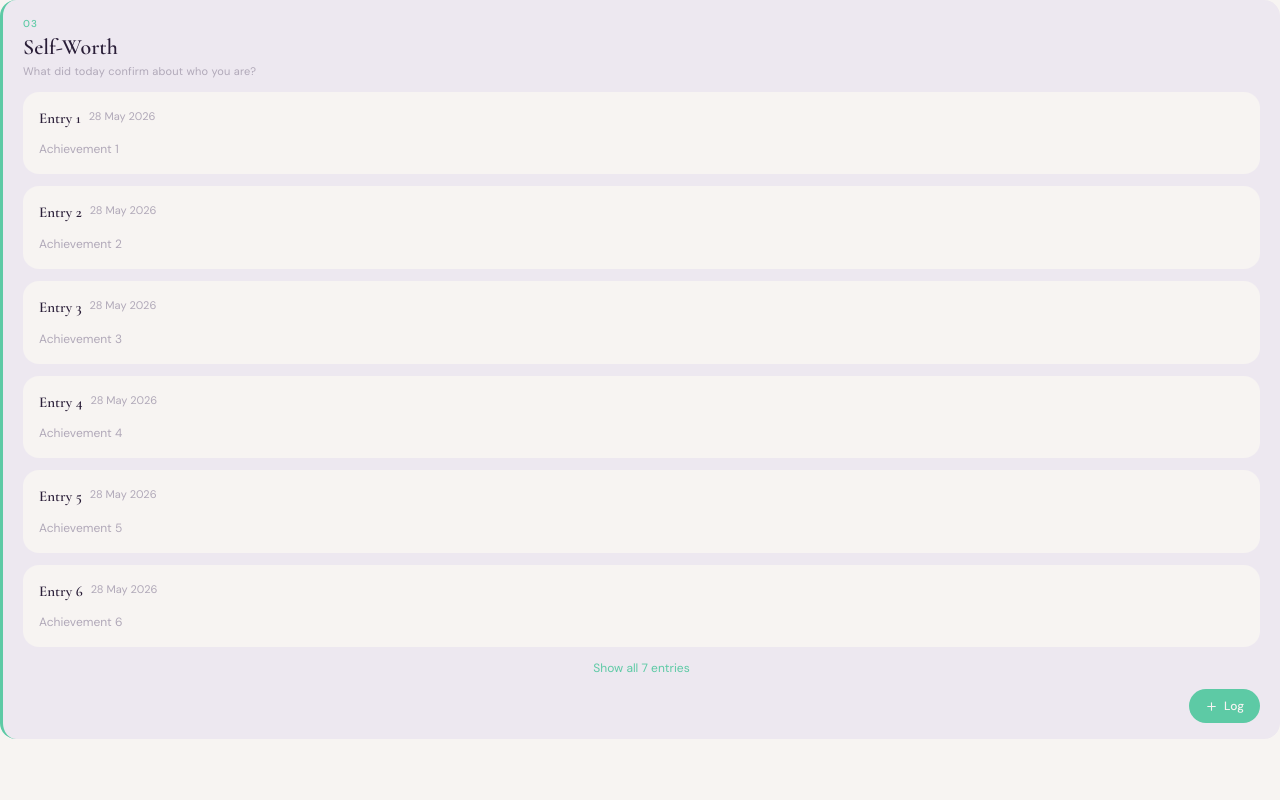
Test case: PanelSelfWorth › tapping show-all reveals all entries and hides the toggle
The width and height of the screenshot is (1280, 800).
Click the button "Show all 7 entries" at (642, 668), box [23,659,1260,677]
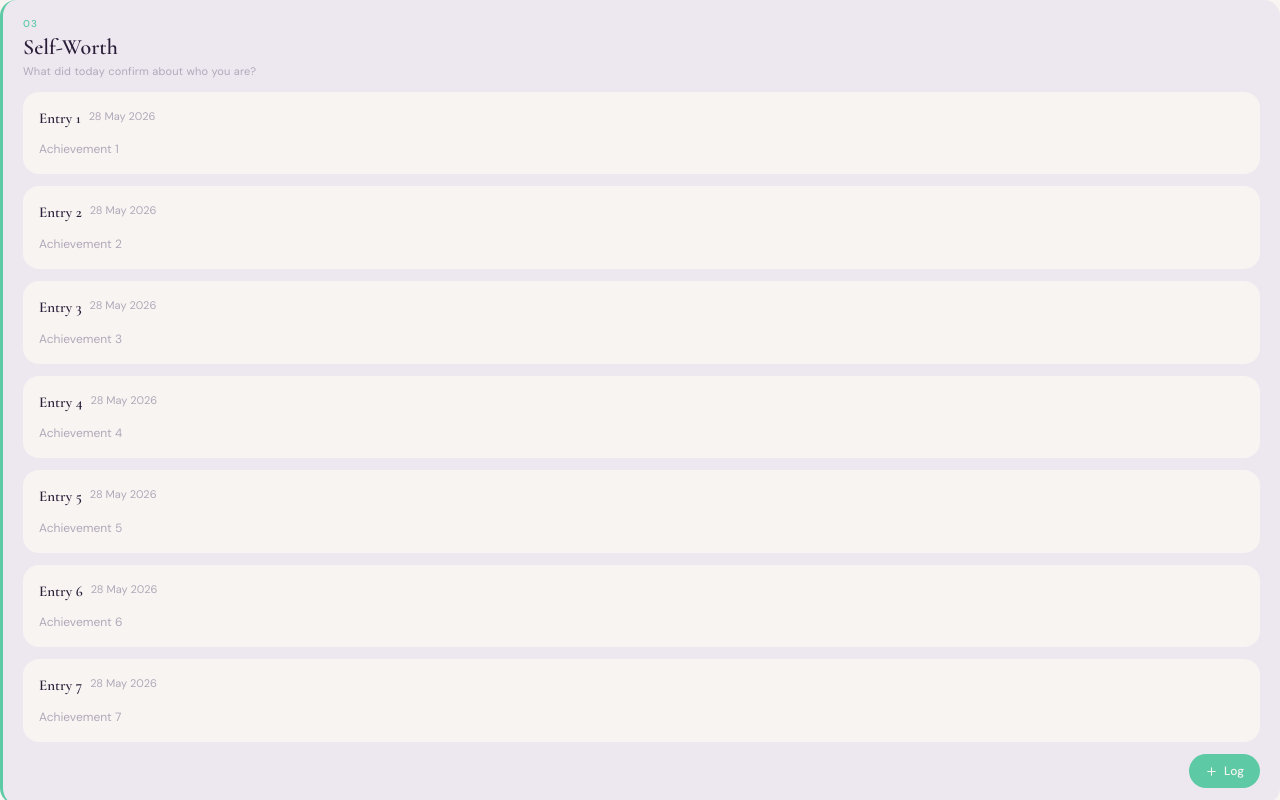
Result: the text "Entry 7" is shown at [39,675,82,696]
Result: the button "Show all 7 entries" is gone
